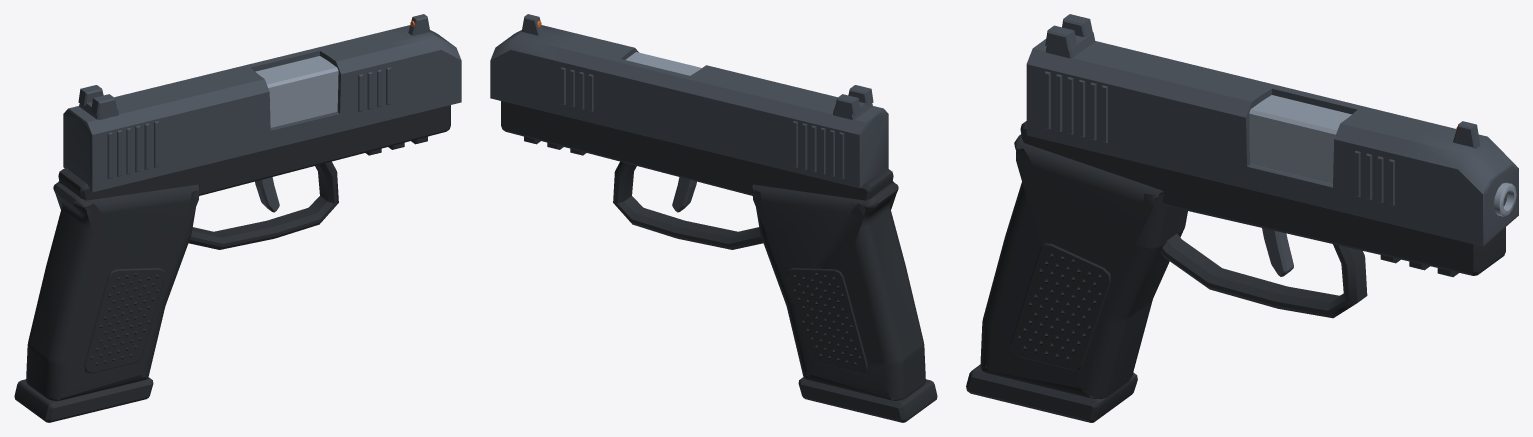
The model's file is Pistol.fbx.
3 views of the same model, side by side, from view 1: azimuth 30°, elevation 25°; view 2: azimuth 150°, elevation 25°; view 3: azimuth 330°, elevation 25° (orthographic). The views are drawn at different scales.
Parts seen in each view (by area): view 1: Pistol_Frame, Pistol_Slide, Pistol_Barrel, Pistol_Magazine, Pistol_GripTexture, Pistol_Trigger; view 2: Pistol_Frame, Pistol_Slide, Pistol_Magazine, Pistol_GripTexture, Pistol_Barrel, Pistol_Trigger; view 3: Pistol_Frame, Pistol_Slide, Pistol_Barrel, Pistol_Magazine, Pistol_GripTexture, Pistol_Trigger.
Part boxes in pixels (left/top/right/bottom): Pistol_Frame: left=26, top=105, right=450, bottom=400; Pistol_Slide: left=63, top=14, right=461, bottom=192; Pistol_Barrel: left=255, top=56, right=338, bottom=127; Pistol_Magazine: left=14, top=377, right=153, bottom=422; Pistol_GripTexture: left=90, top=272, right=158, bottom=365; Pistol_Trigger: left=255, top=177, right=279, bottom=212; Pistol_Frame: left=501, top=101, right=925, bottom=400; Pistol_Slide: left=490, top=14, right=888, bottom=188; Pistol_Magazine: left=798, top=377, right=937, bottom=422; Pistol_GripTexture: left=793, top=272, right=861, bottom=365; Pistol_Barrel: left=626, top=52, right=701, bottom=75; Pistol_Trigger: left=672, top=177, right=696, bottom=212; Pistol_Frame: left=980, top=121, right=1505, bottom=398; Pistol_Slide: left=1026, top=14, right=1518, bottom=246; Pistol_Barrel: left=1249, top=95, right=1516, bottom=216; Pistol_Magazine: left=966, top=365, right=1137, bottom=422; Pistol_GripTexture: left=1017, top=253, right=1101, bottom=360; Pistol_Trigger: left=1262, top=228, right=1293, bottom=276.
Bounding box in the file's own units: 21.96 × 15 × 3.28.
